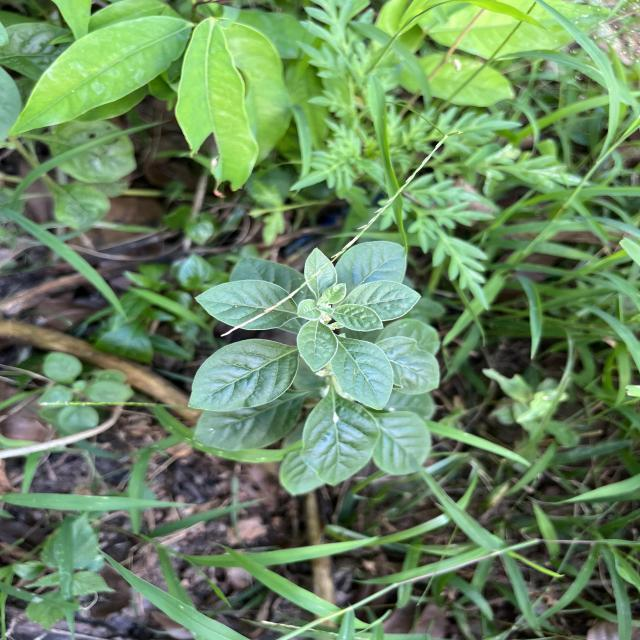Aerva lanata: (184, 334, 301, 414), (192, 278, 300, 334), (329, 337, 396, 412), (338, 278, 424, 324), (336, 239, 412, 290), (294, 320, 340, 376)
